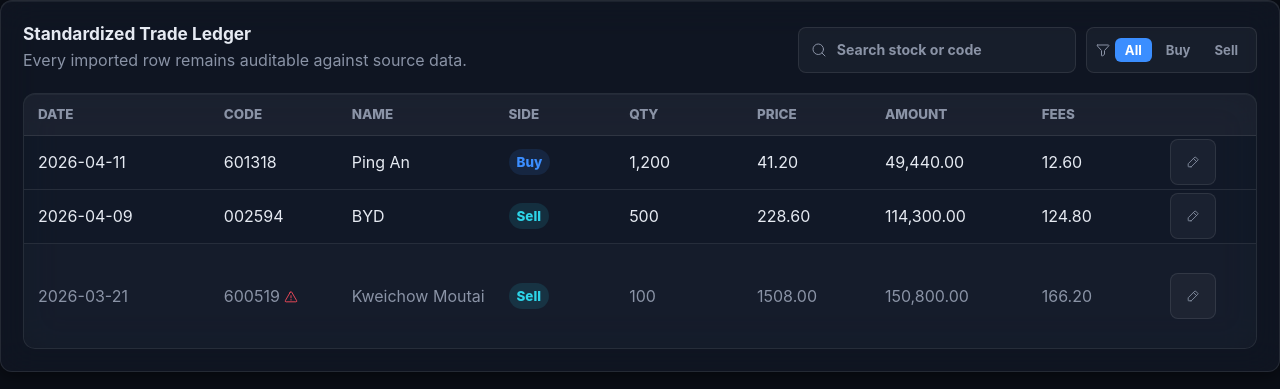
Test: LedgerView › exits edit mode when cancel is clicked
This screenshot has width=1280, height=389.
Step 1. Click the button titled "Edit" next to "12.60" → (1193, 162), box [1170, 139, 1216, 185]
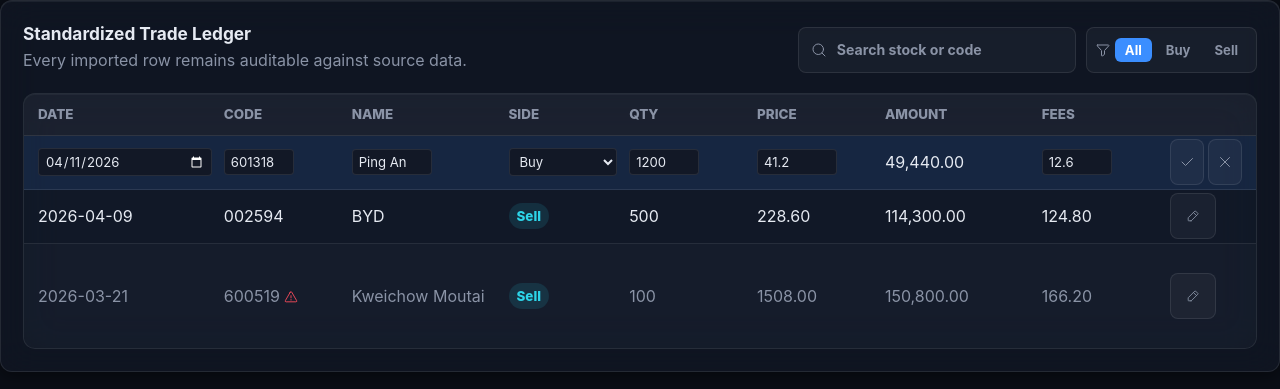
Now the button titled "Cancel" is shown
Step 2. Click the button titled "Cancel" → (1225, 162), box [1208, 139, 1242, 185]
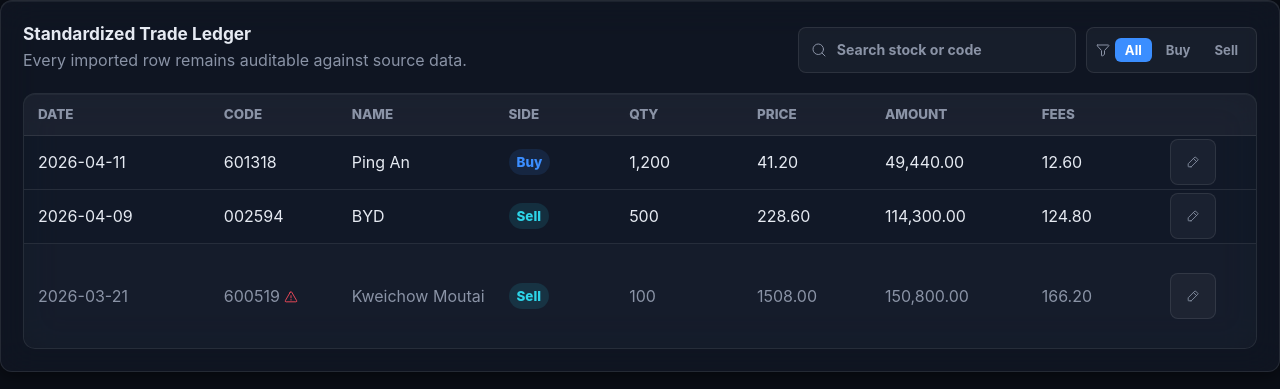
Now the number of buttons titled "Edit" is 3, box [1170, 139, 1216, 185]; [1170, 193, 1216, 239]; [1170, 273, 1216, 319]
